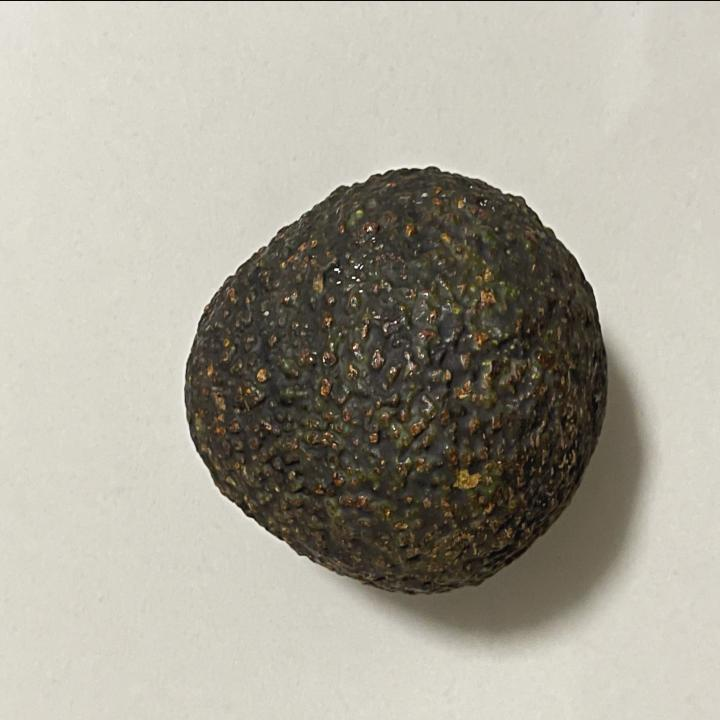Level1: (164, 154, 616, 610)
